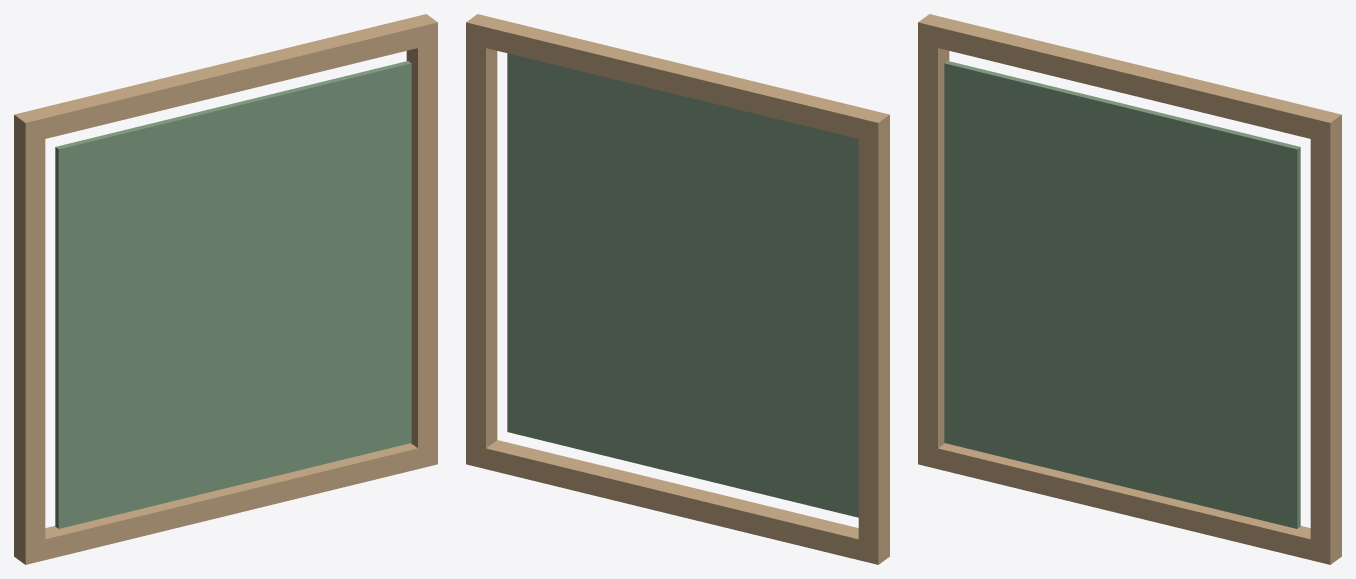
File: art_frame_02.glb
3 views of the same model, side by side, from view 1: azimuth 30°, elevation 25°; view 2: azimuth 150°, elevation 25°; view 3: azimuth 330°, elevation 25° (orthographic).
Parts seen in each view (by area): view 1: art, h0.81, v-0.395, h0, v0.395; view 2: art, h0.81, v-0.395, v0.395, h0; view 3: art, h0.81, v0.395, h0, v-0.395.
Boxes of the visible parts, <box> form: art: <box>55,61,411,528</box>; h0.81: <box>14,14,437,143</box>; v-0.395: <box>14,125,45,551</box>; h0: <box>14,443,437,564</box>; v0.395: <box>406,33,437,458</box>; art: <box>507,53,858,517</box>; h0.81: <box>466,14,889,143</box>; v-0.395: <box>858,125,889,550</box>; v0.395: <box>466,33,497,458</box>; h0: <box>466,440,889,564</box>; art: <box>944,61,1300,528</box>; h0.81: <box>918,14,1341,143</box>; v0.395: <box>1310,125,1341,550</box>; h0: <box>918,443,1341,564</box>; v-0.395: <box>918,33,949,458</box>.
Size of the model in its own units: 0.83 by 0.85 by 0.052.
